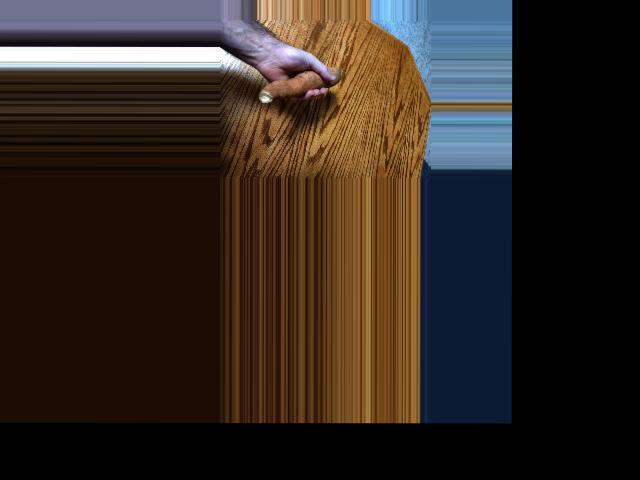sweet_potato: (253, 68, 344, 102)
